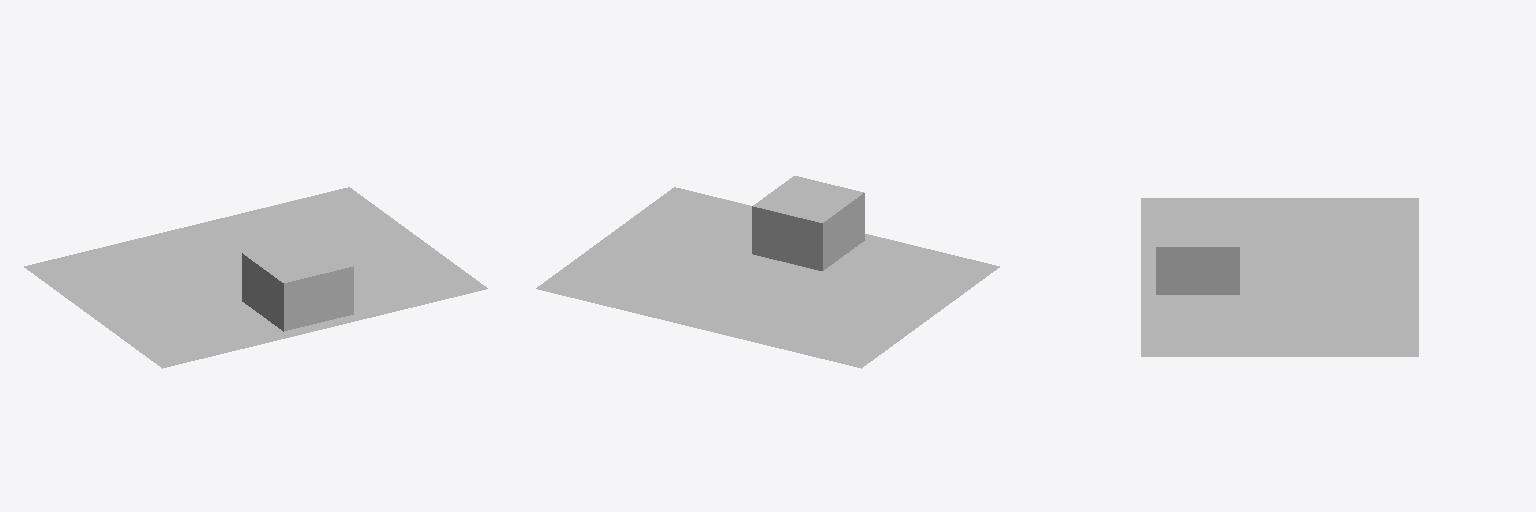
Rendered from explosion.obj.
3 views of the same model, side by side, from view 1: azimuth 30°, elevation 25°; view 2: azimuth 150°, elevation 25°; view 3: azimuth 270°, elevation 25° (orthographic).
Visible parts, largest first — view 1: Plane, Smoke_Domain_Cube.001; view 2: Plane, Smoke_Domain_Cube.001; view 3: Plane, Smoke_Domain_Cube.001.
Part boxes in pixels (bbox=[...]): Plane: bbox=[24, 187, 487, 368]; Smoke_Domain_Cube.001: bbox=[242, 236, 353, 331]; Plane: bbox=[536, 187, 999, 368]; Smoke_Domain_Cube.001: bbox=[752, 176, 864, 270]; Plane: bbox=[1141, 198, 1418, 356]; Smoke_Domain_Cube.001: bbox=[1156, 213, 1239, 294].
Bounding box in the file's own units: 87.83 × 13.55 × 64.88.